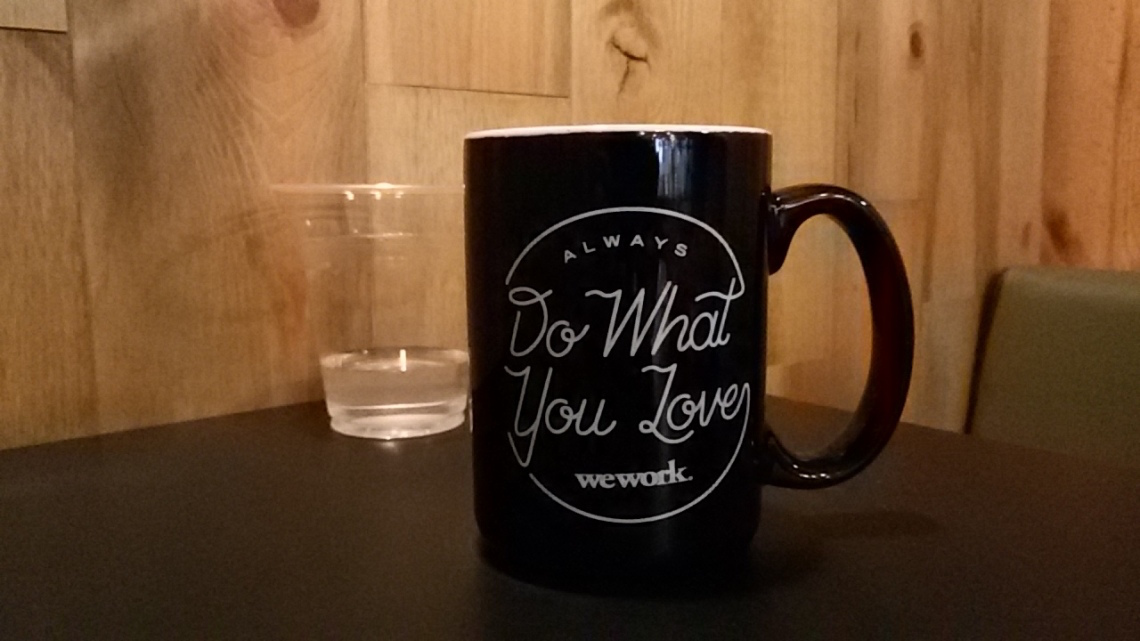wework: (572, 456, 689, 492)
